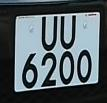0: (76, 47, 94, 84), (58, 49, 76, 86)
2: (40, 51, 60, 88)
6: (20, 52, 40, 89)
U: (39, 13, 59, 53), (58, 14, 78, 52)
